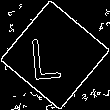L_N: (37, 28, 73, 82)
